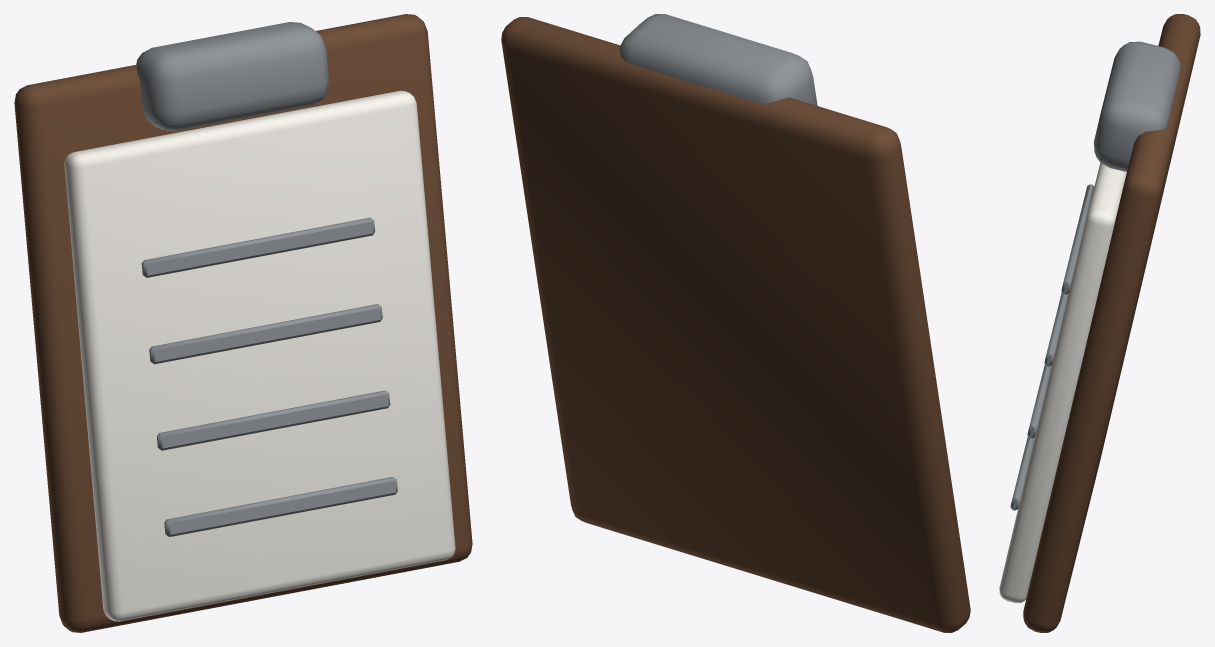
File: part_clipboard.glb
3 views of the same model, side by side, from view 1: azimuth 30°, elevation 25°; view 2: azimuth 150°, elevation 25°; view 3: azimuth 270°, elevation 25° (orthographic). The views are drawn at different scales.
Parts seen in each view (by area): view 1: Clip_Paper, Clip_Board, Clip_Clamp, Clip_Line2, Clip_Line1, Clip_Line3, Clip_Line0; view 2: Clip_Board, Clip_Clamp; view 3: Clip_Board, Clip_Paper, Clip_Clamp, Clip_Line0, Clip_Line2, Clip_Line1, Clip_Line3.
Boxes of the visible parts, x1=… form: Clip_Paper: x1=64, y1=90, x2=455, y2=621; Clip_Board: x1=14, y1=14, x2=472, y2=632; Clip_Clamp: x1=136, y1=22, x2=328, y2=131; Clip_Line2: x1=157, y1=390, x2=390, y2=450; Clip_Line1: x1=149, y1=304, x2=382, y2=364; Clip_Line3: x1=164, y1=477, x2=397, y2=536; Clip_Line0: x1=141, y1=217, x2=375, y2=277; Clip_Board: x1=501, y1=17, x2=970, y2=632; Clip_Clamp: x1=619, y1=14, x2=817, y2=105; Clip_Board: x1=1023, y1=14, x2=1200, y2=632; Clip_Paper: x1=999, y1=163, x2=1126, y2=602; Clip_Clamp: x1=1094, y1=41, x2=1180, y2=171; Clip_Line0: x1=1061, y1=184, x2=1094, y2=294; Clip_Line2: x1=1027, y1=364, x2=1051, y2=438; Clip_Line1: x1=1044, y1=292, x2=1068, y2=366; Clip_Line3: x1=1010, y1=436, x2=1034, y2=510.
Size of the model in its own units: 0.3065 by 0.39 by 0.1471.
